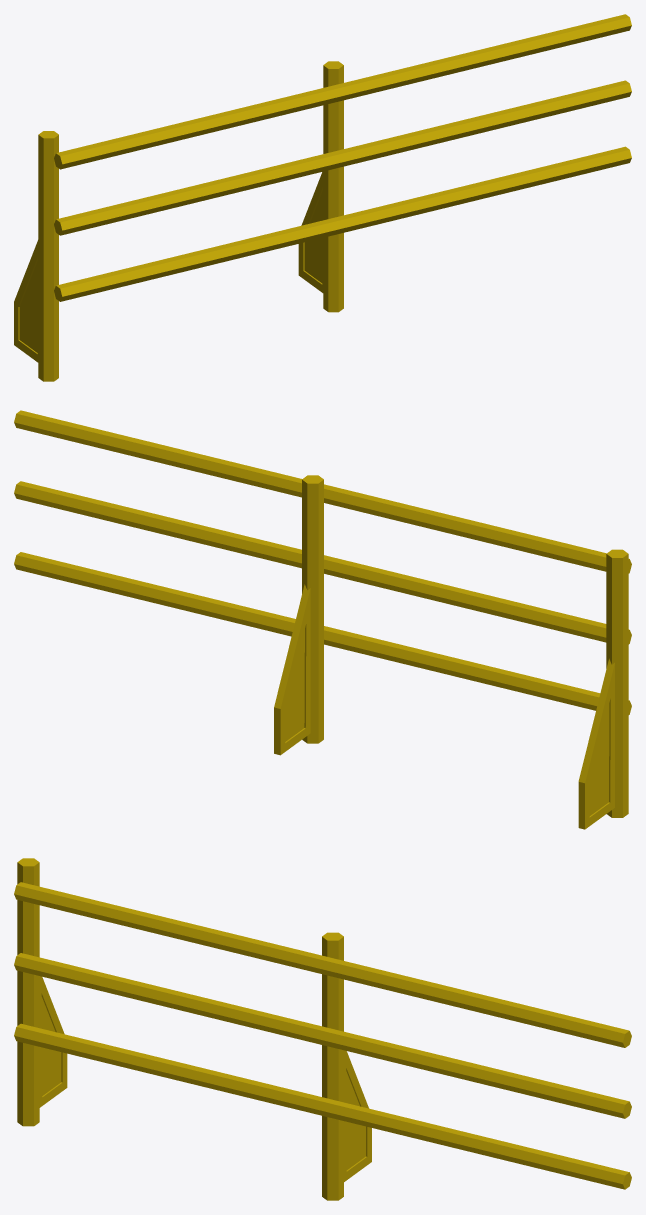
File: FenceA.fbx
3 views of the same model, one above another, from view 1: azimuth 30°, elevation 25°; view 2: azimuth 150°, elevation 25°; view 3: azimuth 330°, elevation 25° (orthographic). The views are drawn at different scales.
Parts seen in each view (by area): view 1: FenceA; view 2: FenceA; view 3: FenceA.
Boxes of the visible parts, x1=… form: FenceA: x1=14, y1=14, x2=631, y2=381; FenceA: x1=14, y1=410, x2=631, y2=829; FenceA: x1=14, y1=858, x2=631, y2=1200.
Bounding box in the file's own units: 203 × 81.64 × 28.05.
